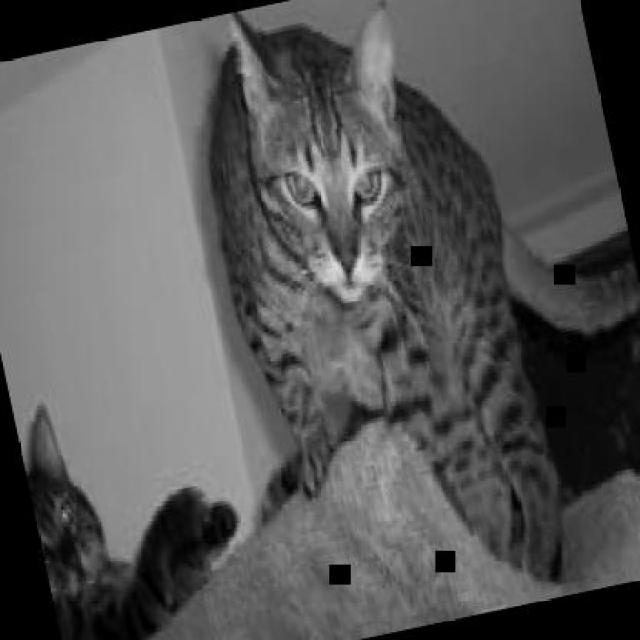cat: (164, 0, 638, 638), (14, 370, 266, 638)
